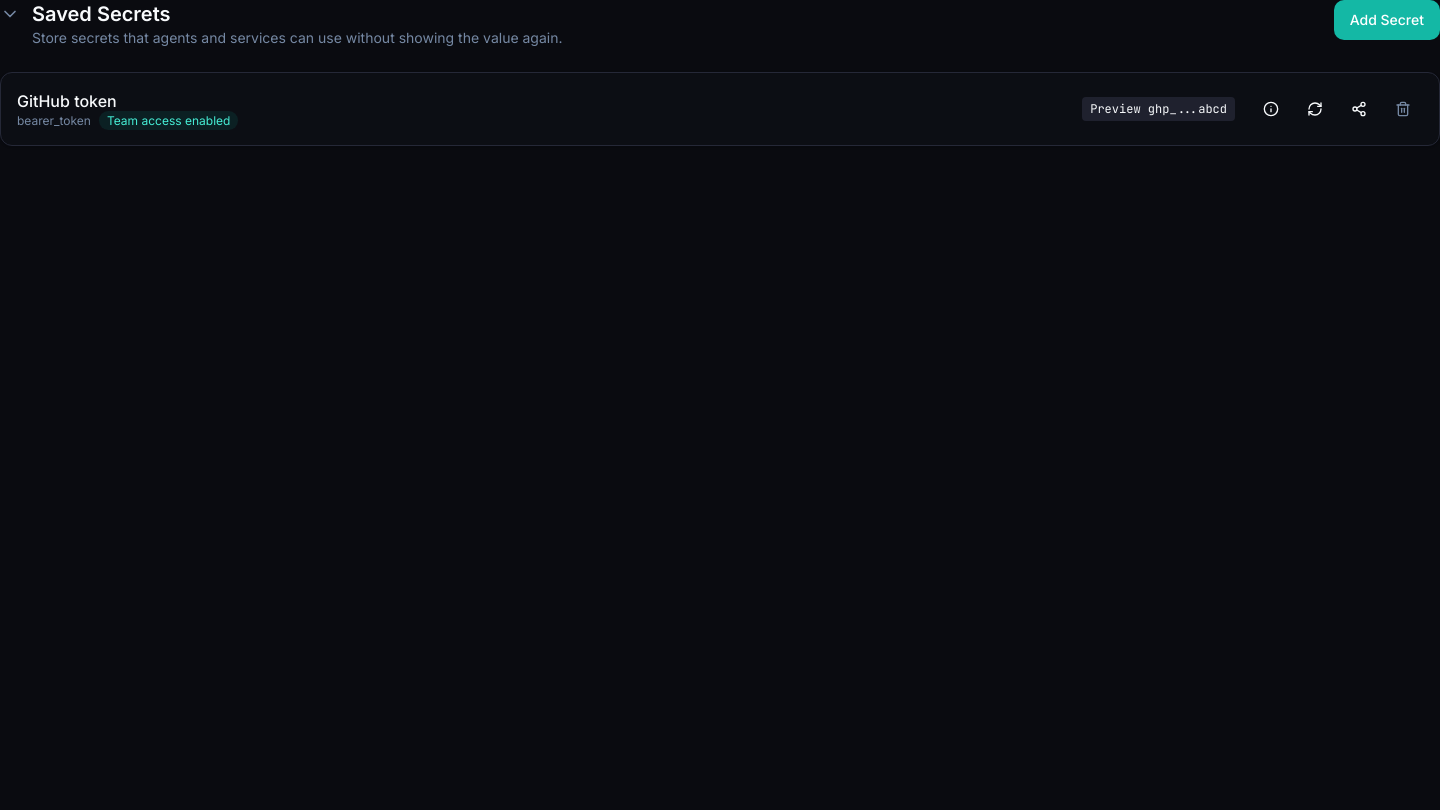
it: SecretsManager › submits raw values only to the create endpoint and clears the input
Expected: the text "GitHub token" is shown, [17, 91, 117, 111]
Expected: the field labelled "secret value" is not shown
Click the button "Add Secret" at (1387, 20), box [1334, 0, 1439, 40]
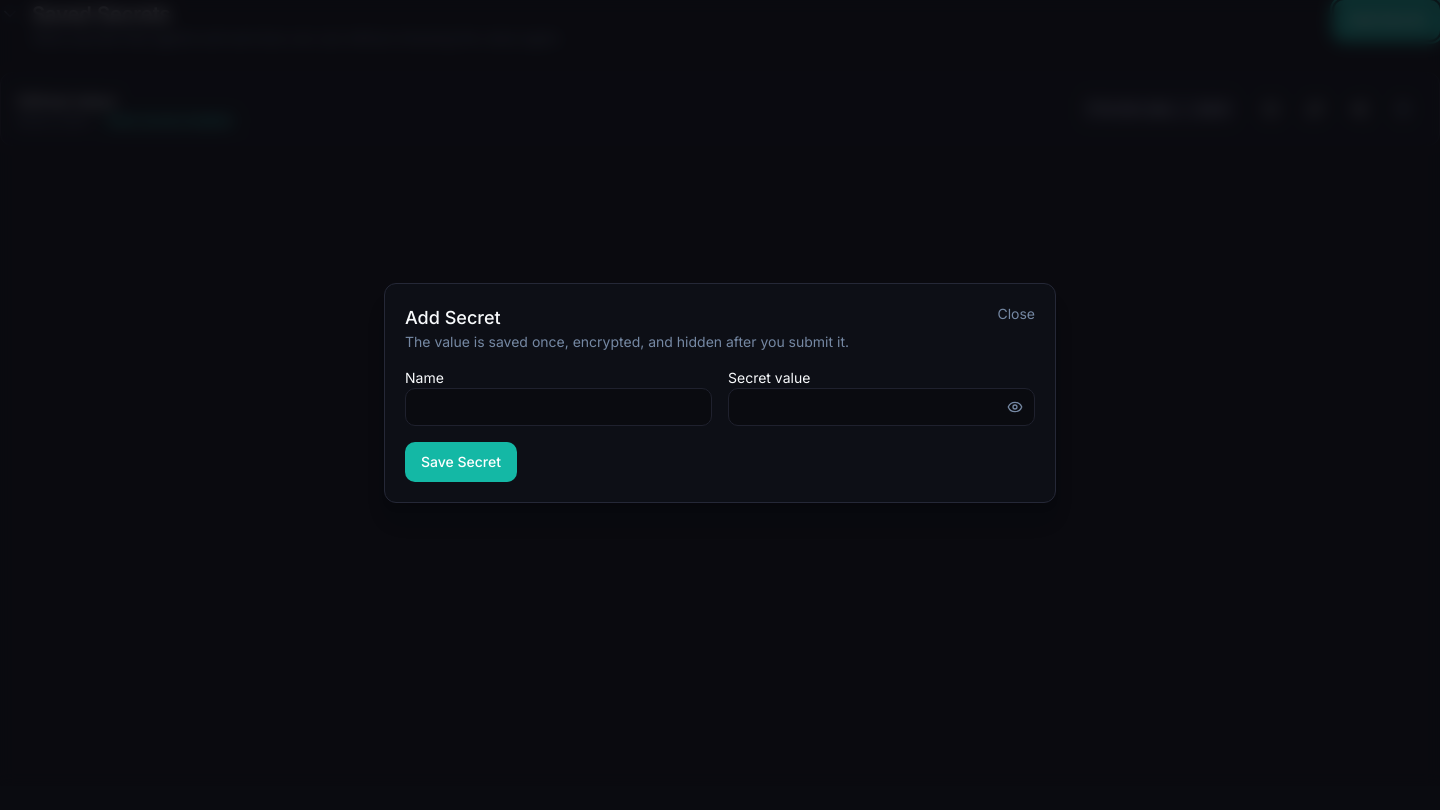
Type "New token" into the field labelled "Name" at (558, 407), box [405, 388, 712, 426]
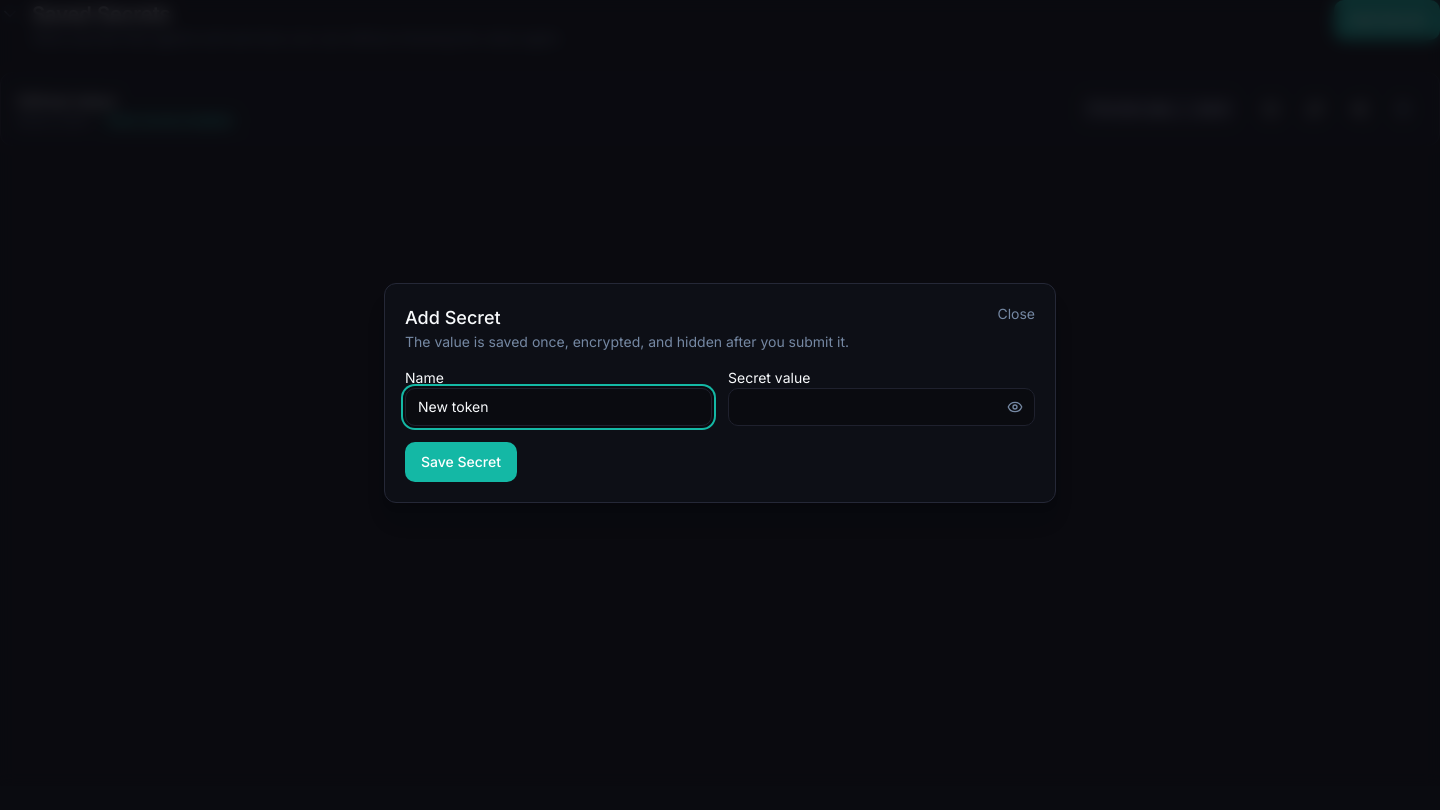
Type "new-token-value" into the password field labelled "Secret value" at (882, 407), box [728, 388, 1035, 426]
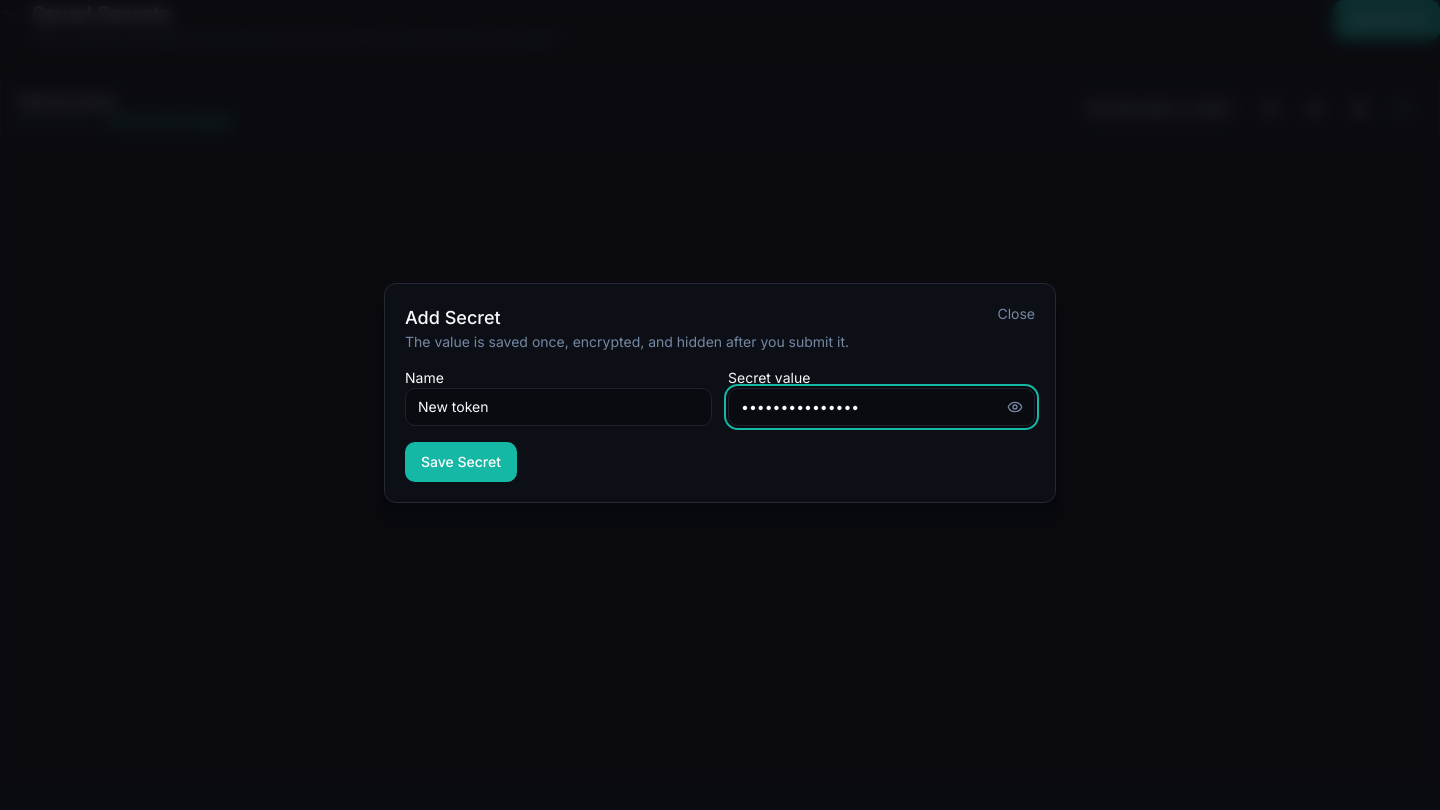
Click the button named "show secret value before saving" at (1015, 407), box [999, 391, 1031, 423]
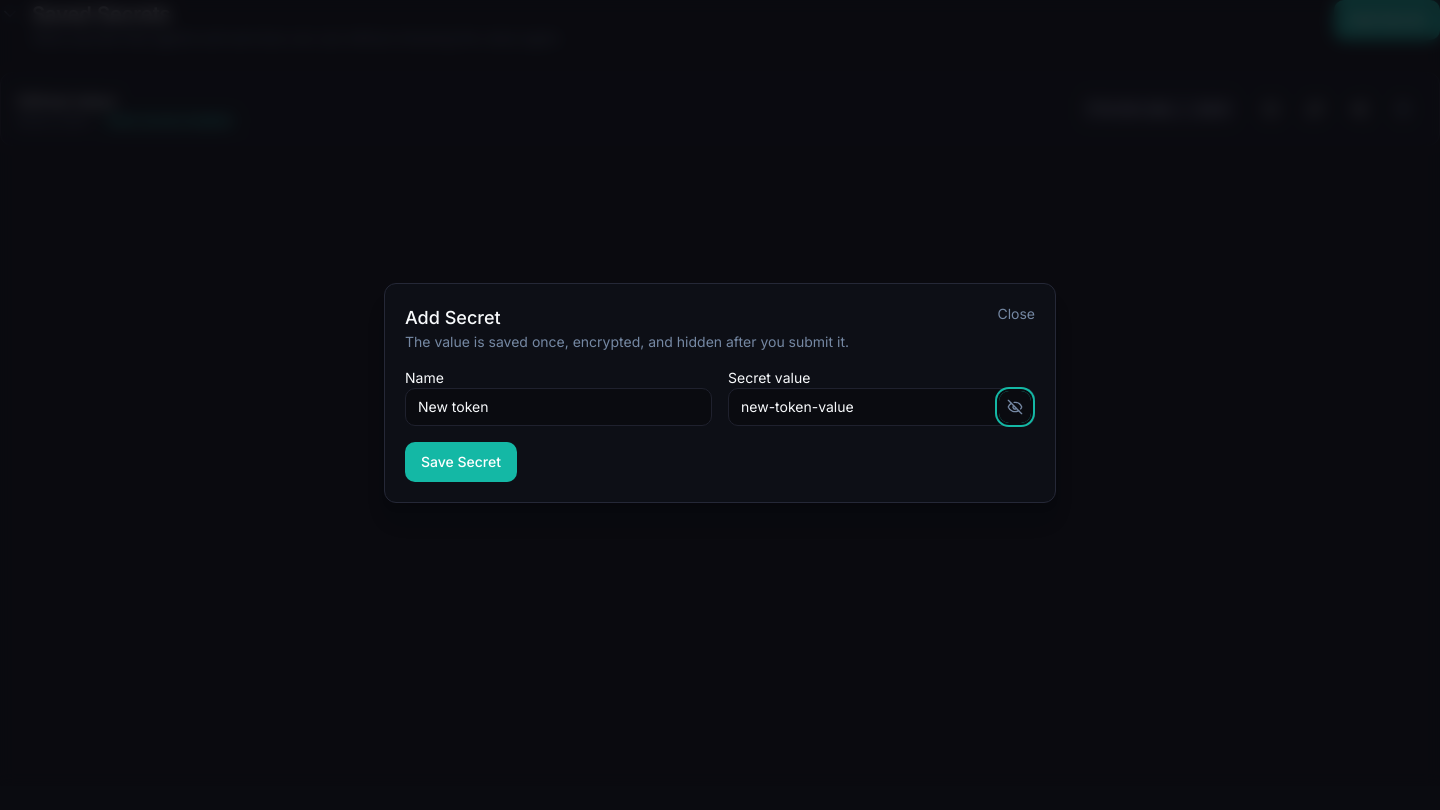
Click the button named "hide secret value before saving" at (1015, 407), box [999, 391, 1031, 423]
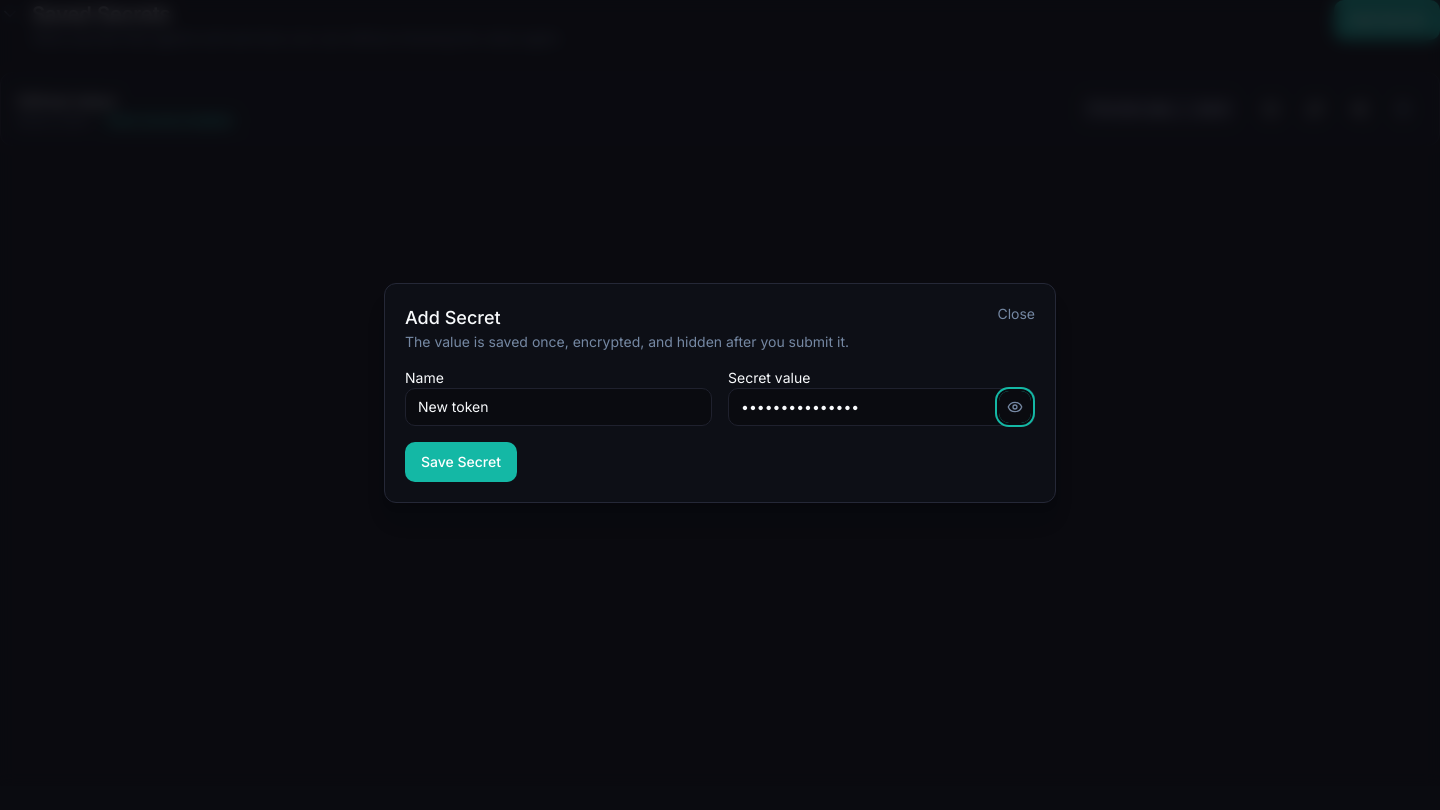
Click the button "Save Secret" at (461, 462), box [405, 442, 517, 482]
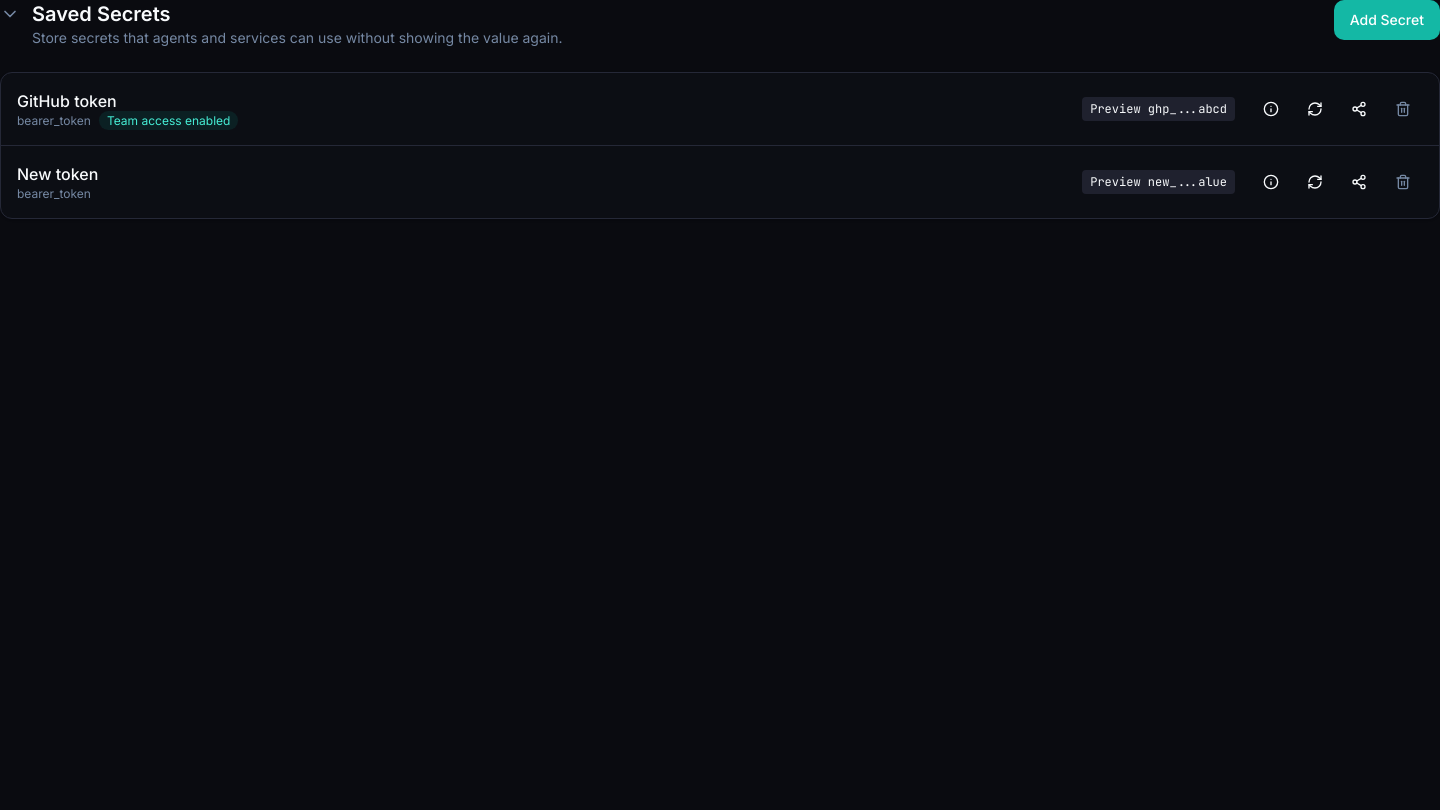
Expected: the field showing "new-token-value" is not shown
Expected: the label labelled "Secret value" is gone
